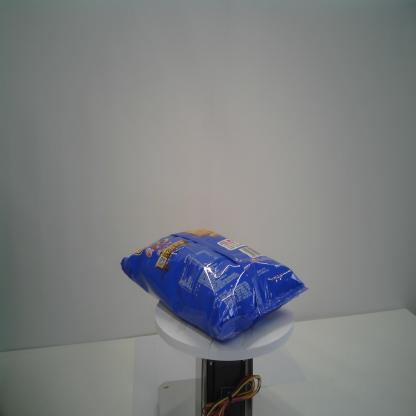Puffed Food: (120, 225, 311, 345)
